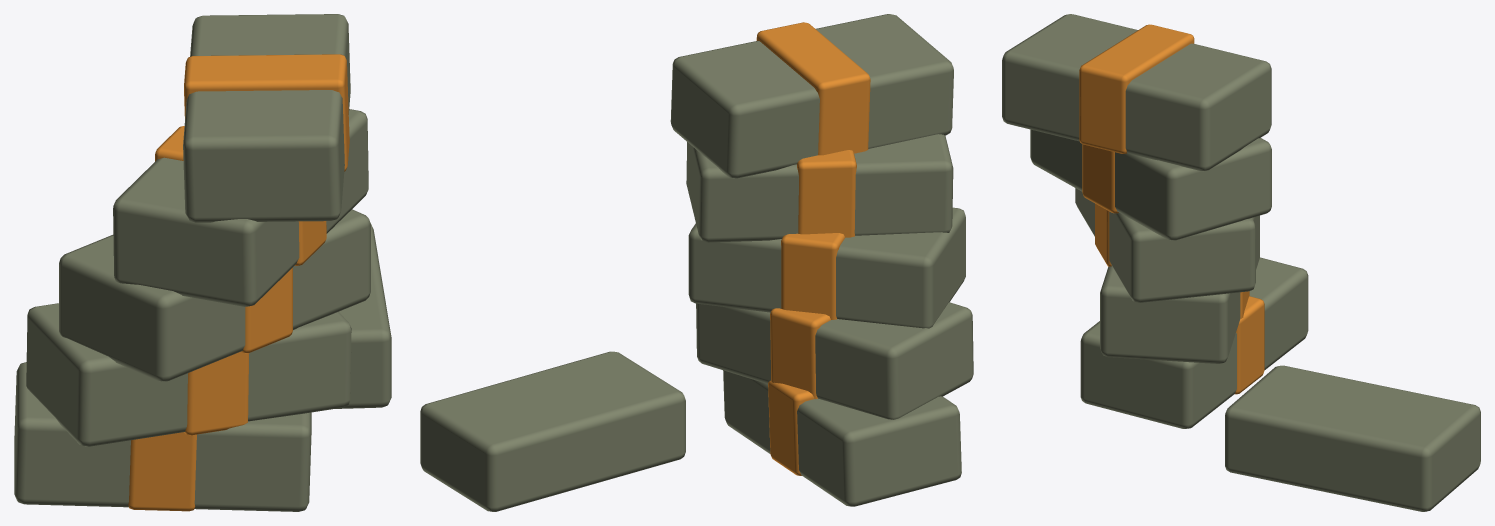
The model's file is battle-royale-town-and-airfield-cash-bundle-5547547f__28237.glb.
The picture shows the model from 3 angles, left to right: view 1: azimuth 30°, elevation 25°; view 2: azimuth 150°, elevation 25°; view 3: azimuth 270°, elevation 25°; orthographic projection. The views are drawn at different scales.
Parts seen in each view (by area): view 1: cash-bundle; view 2: cash-bundle; view 3: cash-bundle.
Part boxes in pixels (x1=…): cash-bundle: x1=14, y1=14, x2=391, y2=511; cash-bundle: x1=420, y1=14, x2=973, y2=511; cash-bundle: x1=1002, y1=14, x2=1480, y2=511.
Size of the model in its own units: 0.3257 by 0.2726 by 0.3324.
